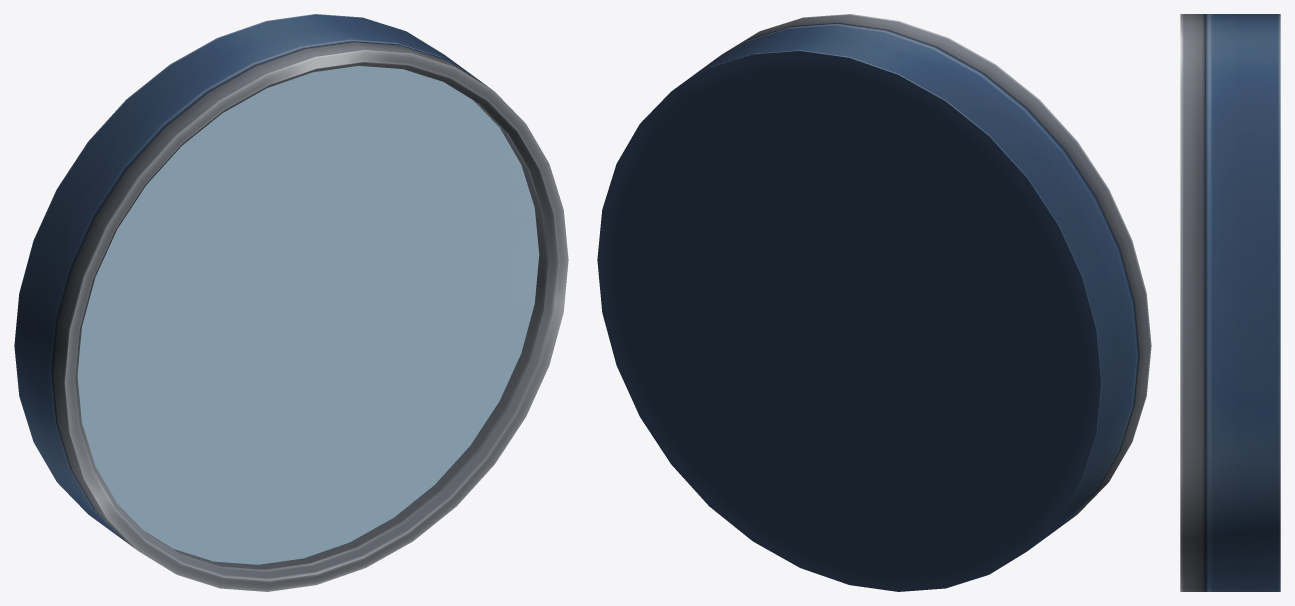
Rendered from Clock_01_01.fbx.
The picture shows the model from 3 angles, left to right: view 1: azimuth 30°, elevation 25°; view 2: azimuth 150°, elevation 25°; view 3: azimuth 270°, elevation 25°; orthographic projection.
Parts seen in each view (by area): view 1: glass1, clock_01; view 2: clock_01; view 3: clock_01.
Part boxes in pixels (box(x1,y1,x2,y2)): glass1: box(77, 66, 539, 564); clock_01: box(14, 14, 568, 591); clock_01: box(597, 14, 1151, 591); clock_01: box(1180, 14, 1280, 591).
Size of the model in its own units: 32 by 32 by 5.54.
